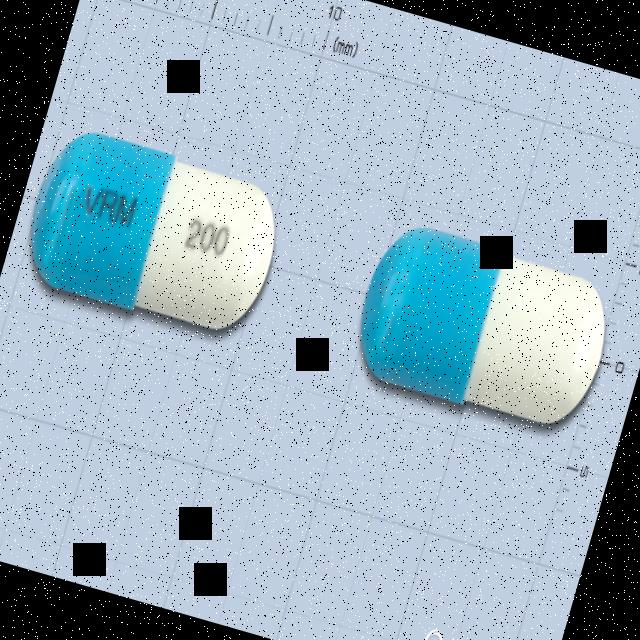Viramid Cap-200mg: (14, 119, 293, 348)
